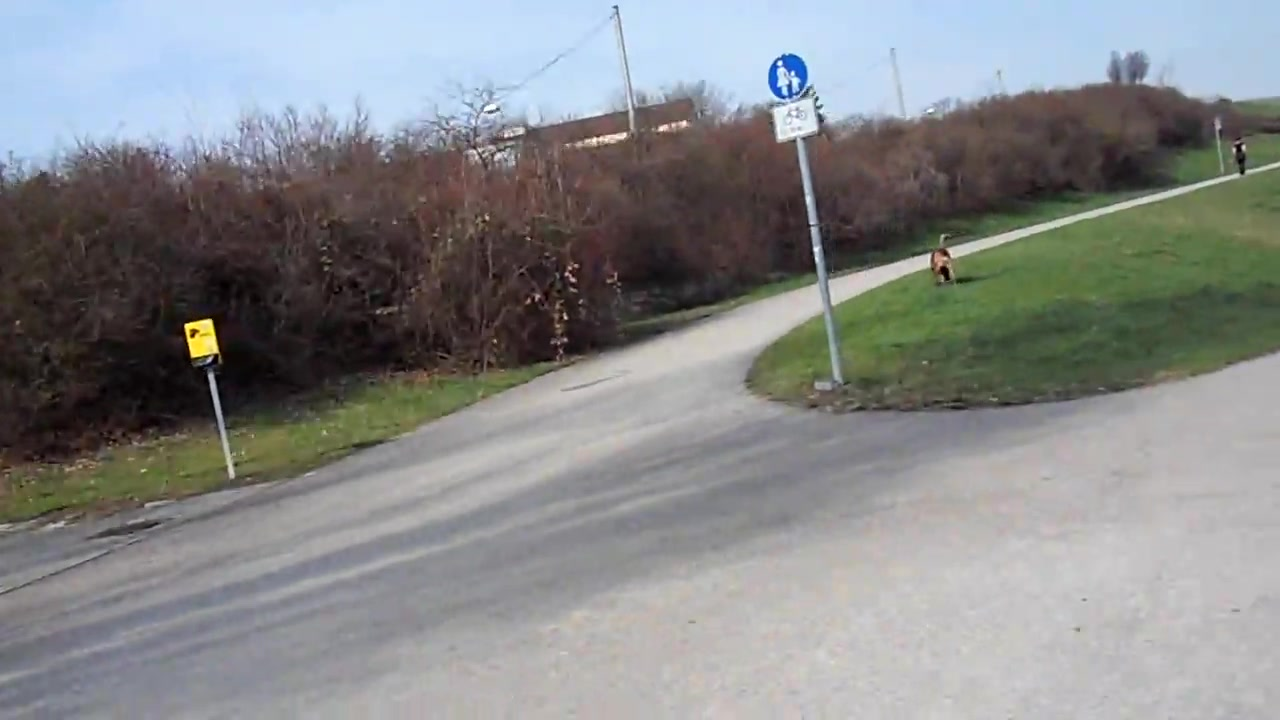dog: (930, 230, 961, 293)
